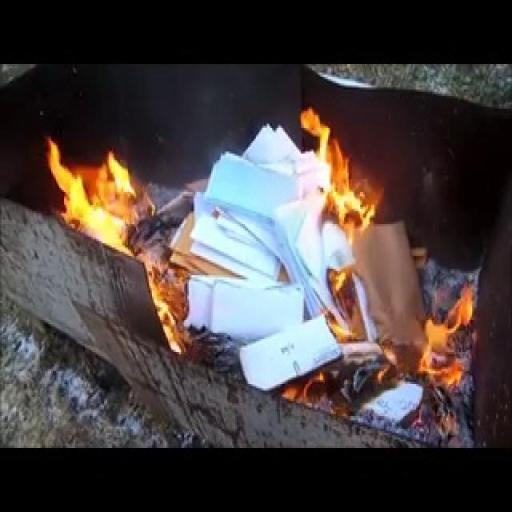smoke: (296, 109, 378, 418), (46, 136, 151, 252)
